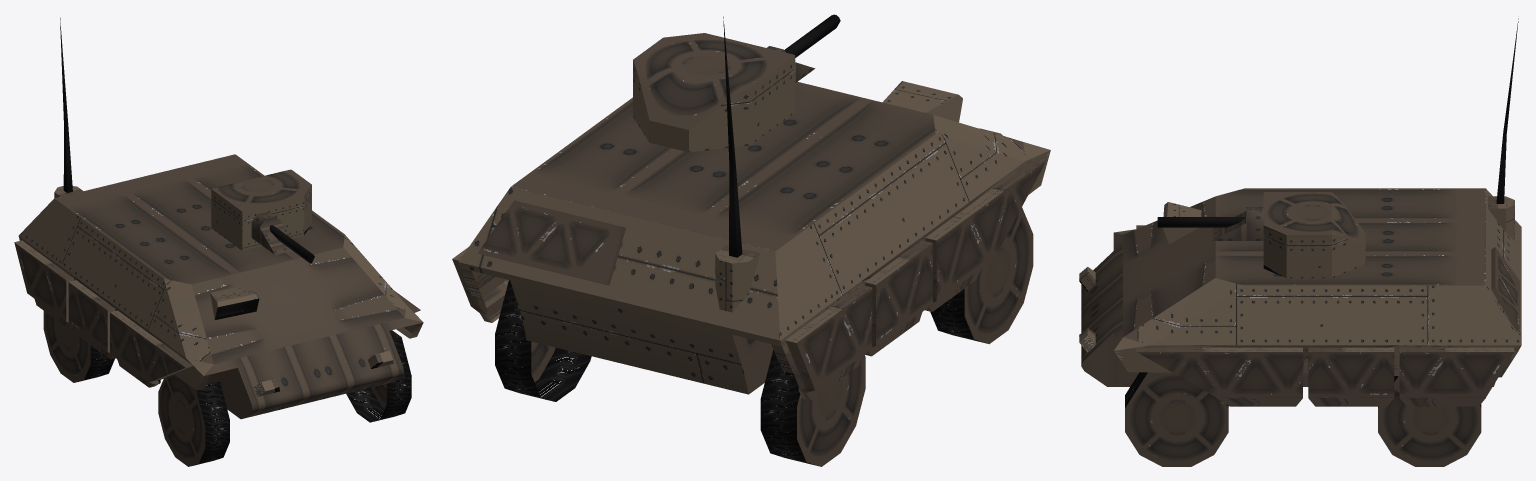
File: Car_Lvl1.fbx
3 renders of one model, left to right at view 1: azimuth 30°, elevation 25°; view 2: azimuth 150°, elevation 25°; view 3: azimuth 270°, elevation 25°, orthographic. The views are drawn at different scales.
Visible parts, largest first — view 1: Car_Lvl1; view 2: Car_Lvl1; view 3: Car_Lvl1.
Boxes of the visible parts, left/top/right/bottom form: Car_Lvl1: left=14, top=17, right=423, bottom=466; Car_Lvl1: left=452, top=14, right=1050, bottom=466; Car_Lvl1: left=1079, top=18, right=1521, bottom=466.
Bounding box in the file's own units: 3.43 × 3.08 × 2.32.
